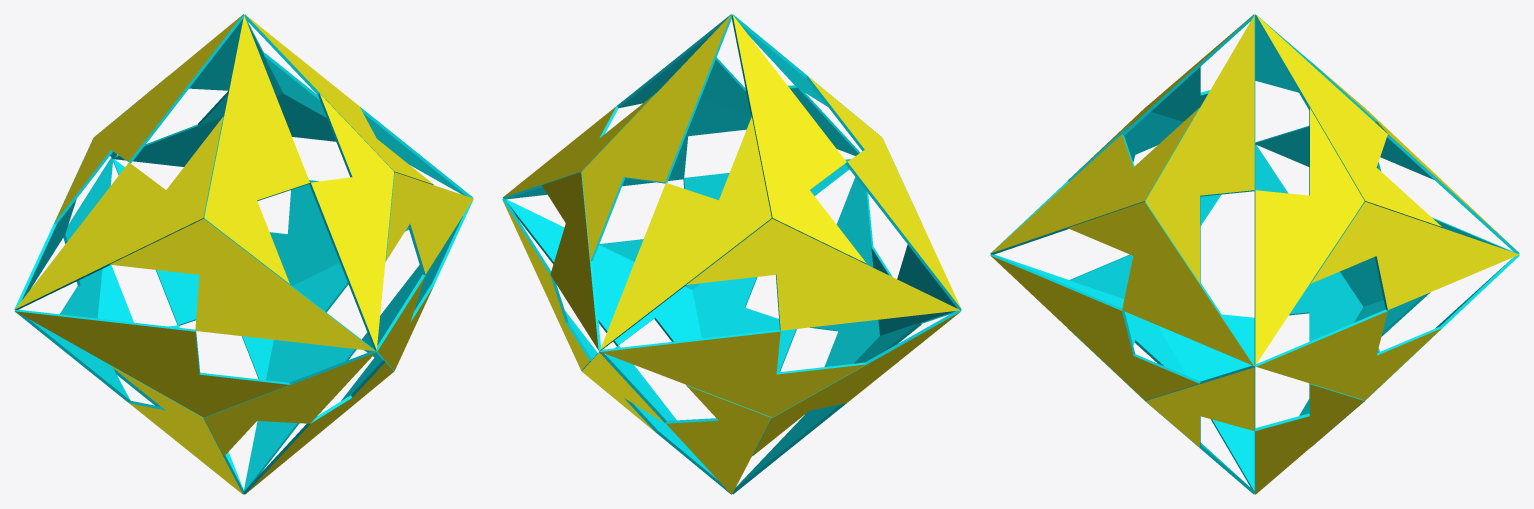
Rendered from TriakisOctahedronS1.glb.
3 views of the same model, side by side, from view 1: azimuth 30°, elevation 25°; view 2: azimuth 150°, elevation 25°; view 3: azimuth 270°, elevation 25° (orthographic).
Parts seen in each view (by area): view 1: root; view 2: root; view 3: root.
Boxes of the visible parts, box(x1,y1,x2,y2) form: root: box(14, 14, 473, 494); root: box(502, 14, 961, 494); root: box(990, 14, 1519, 494).
Bounding box in the file's own units: 8.71 × 8.71 × 8.71.
